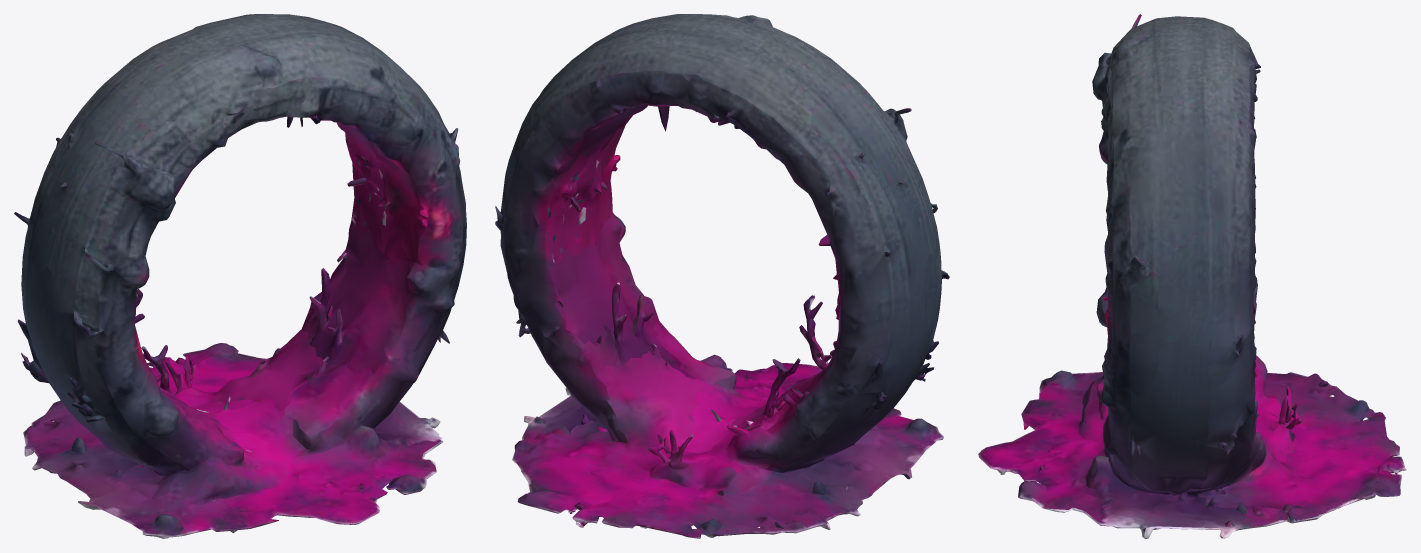
The model's file is broken-ring-generated-2026-05-17T19-10-33-073Z.low.glb.
3 views of the same model, side by side, from view 1: azimuth 30°, elevation 25°; view 2: azimuth 150°, elevation 25°; view 3: azimuth 270°, elevation 25° (orthographic). The views are drawn at different scales.
Visible parts, largest first — view 1: temp_mesh.ply; view 2: temp_mesh.ply; view 3: temp_mesh.ply.
Boxes of the visible parts, <box> form: temp_mesh.ply: <box>14,14,466,538</box>; temp_mesh.ply: <box>495,14,949,538</box>; temp_mesh.ply: <box>978,14,1406,538</box>.
Size of the model in its own units: 1.97 by 1.97 by 1.82.
Materials: 1 (1 with a texture image).
